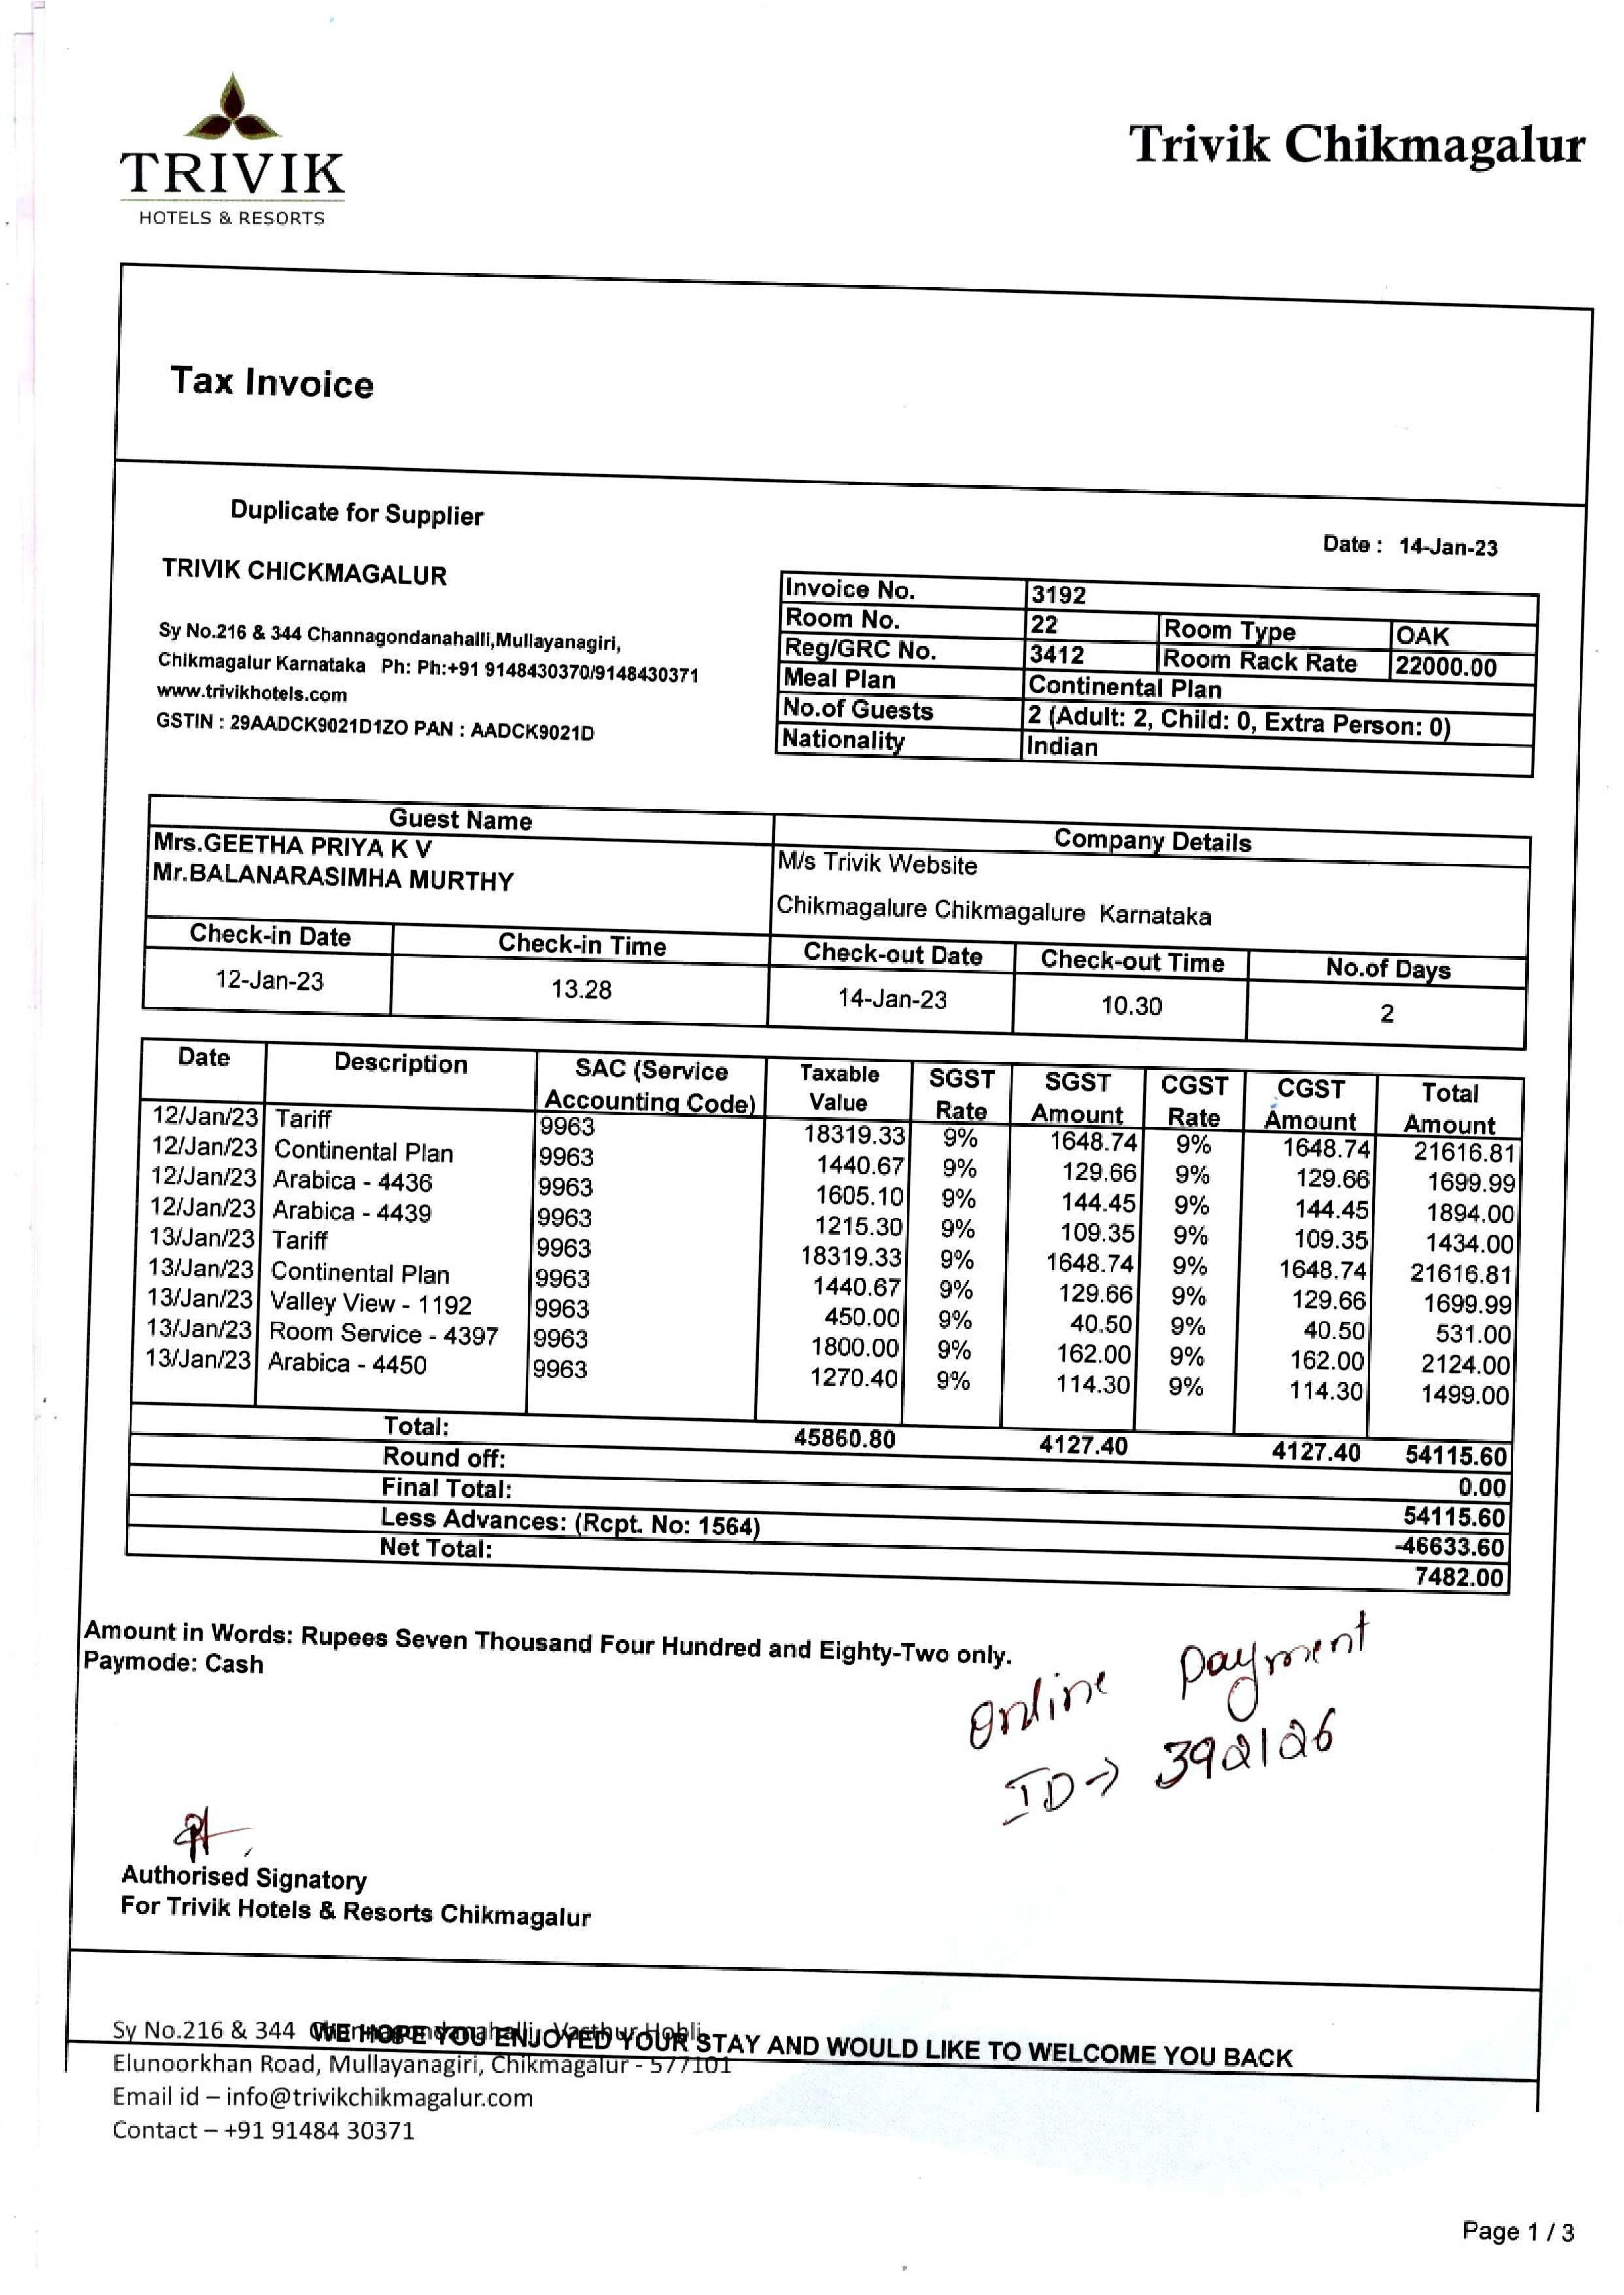InvoiceDate: (1396, 531, 1503, 564)
InvoiceNumber: (1030, 582, 1095, 606)
TotalAmount: (1399, 1437, 1512, 1473)
